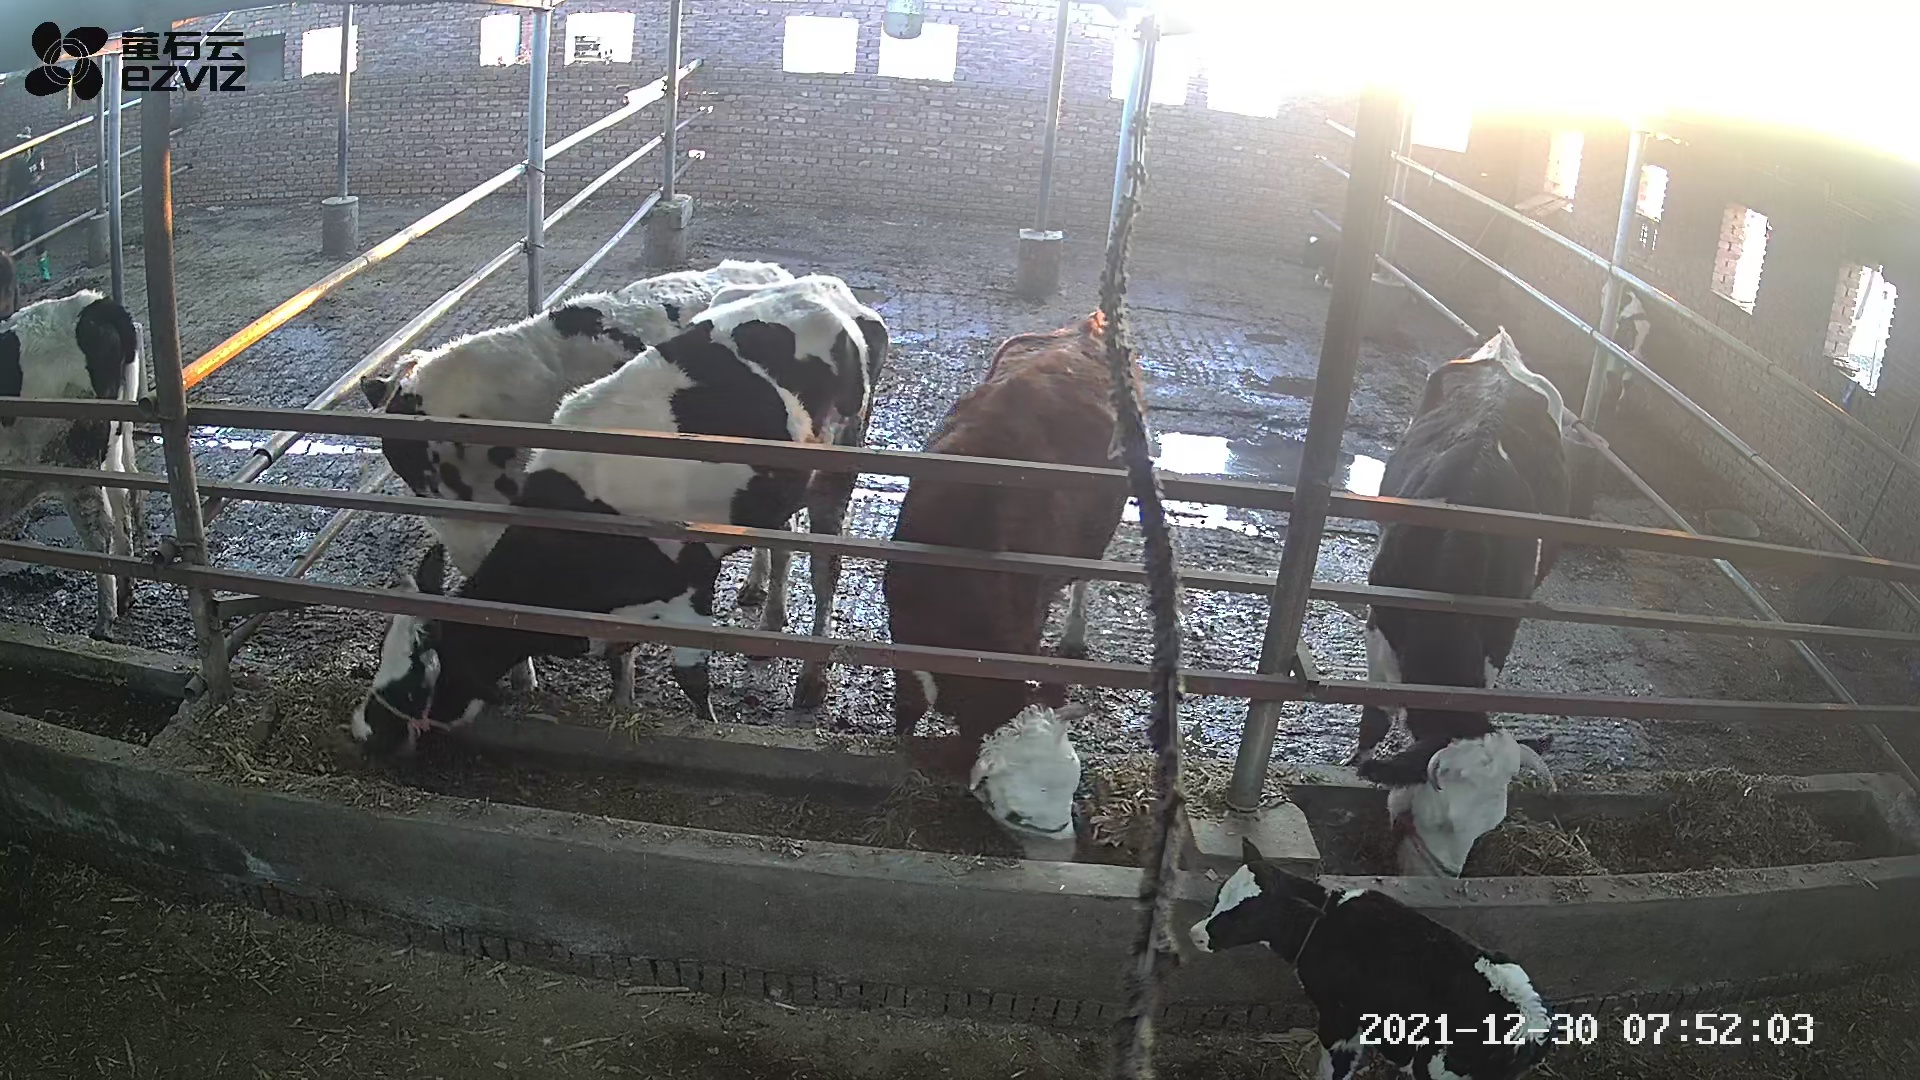cow: (347, 273, 889, 761), (357, 257, 799, 607), (880, 307, 1149, 862), (1348, 323, 1572, 877)
